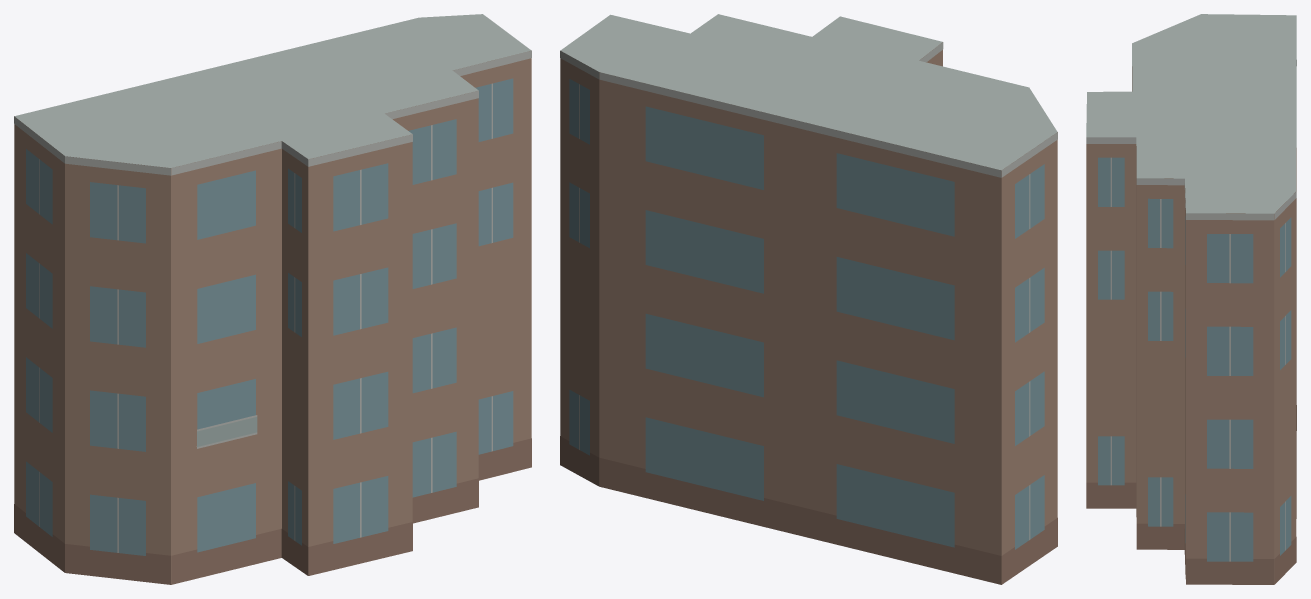
File: survey-upis-32753055.glb
The picture shows the model from 3 angles, left to right: view 1: azimuth 30°, elevation 25°; view 2: azimuth 150°, elevation 25°; view 3: azimuth 270°, elevation 25°; orthographic projection. The views are drawn at different scales.
Parts seen in each view (by area): view 1: survey-upis-32753055.tmp; view 2: survey-upis-32753055.tmp; view 3: survey-upis-32753055.tmp.
Boxes of the visible parts, <box> form: survey-upis-32753055.tmp: <box>14,14,531,584</box>; survey-upis-32753055.tmp: <box>560,14,1057,584</box>; survey-upis-32753055.tmp: <box>1086,14,1296,584</box>.
Bounding box in the file's own units: 15.48 × 13.42 × 6.91.
